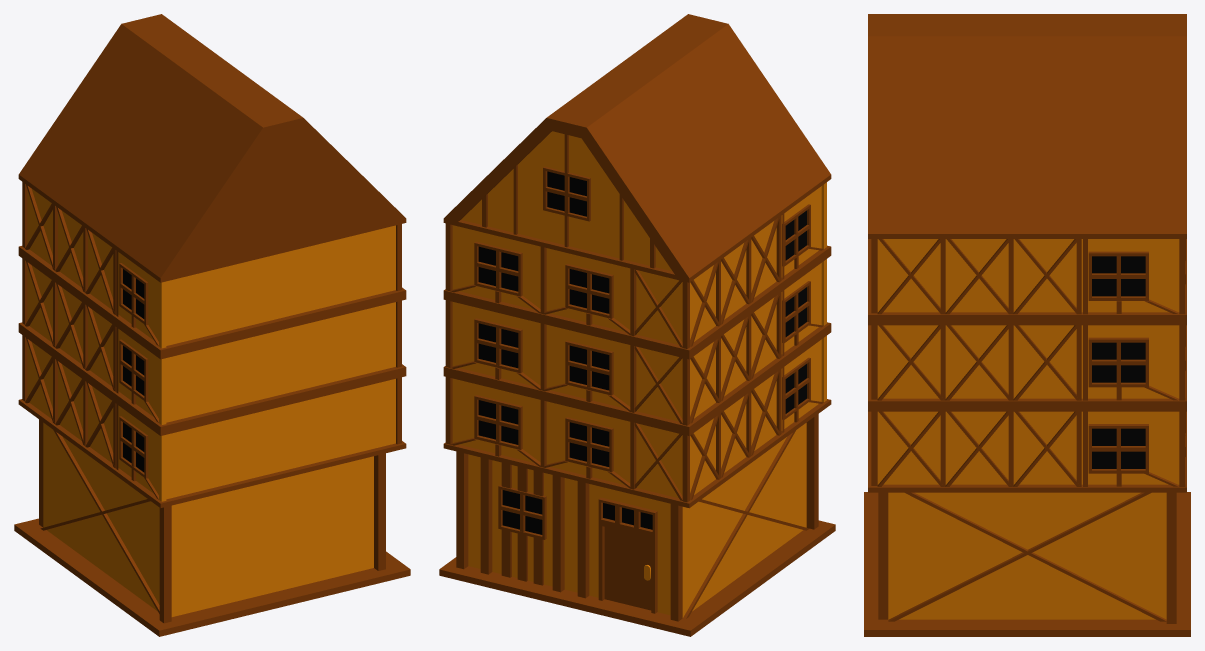
Rendered from houseold.fbx.
3 renders of one model, left to right at view 1: azimuth 30°, elevation 25°; view 2: azimuth 150°, elevation 25°; view 3: azimuth 270°, elevation 25°, orthographic. The views are drawn at different scales.
Visible parts, largest first — view 1: houseold; view 2: houseold; view 3: houseold.
Part boxes in pixels (x1,y1,x2,y2): houseold: [14, 14, 410, 636]; houseold: [439, 14, 835, 636]; houseold: [864, 14, 1190, 636].
Size of the model in its own units: 1485 by 2723 by 1485.
